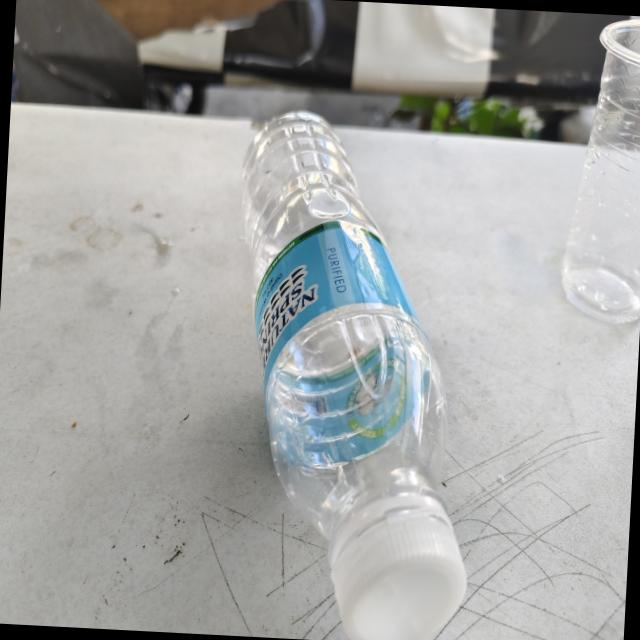Bottle: (243, 111, 466, 640)
